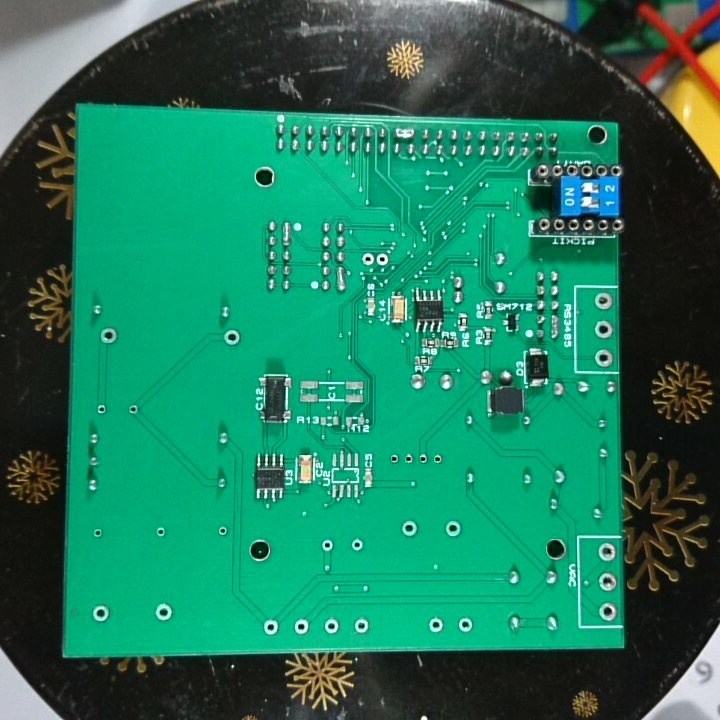F: (591, 289, 615, 313), (596, 539, 619, 563), (90, 602, 114, 625), (592, 316, 614, 341), (597, 569, 619, 594), (97, 324, 120, 347), (153, 601, 175, 623), (399, 517, 420, 540), (442, 517, 465, 538), (221, 326, 242, 349), (593, 346, 614, 368), (456, 614, 476, 637), (597, 599, 617, 621), (426, 616, 446, 637), (352, 616, 371, 637), (261, 616, 279, 636), (323, 616, 340, 637), (348, 534, 364, 555), (292, 616, 310, 634), (319, 536, 334, 557), (430, 447, 445, 468), (375, 250, 392, 268), (359, 250, 375, 268), (214, 524, 231, 540), (91, 524, 106, 542), (126, 400, 140, 419), (416, 449, 430, 467), (95, 401, 109, 419), (155, 524, 168, 542), (388, 450, 401, 467), (403, 450, 414, 468)
P: (332, 263, 348, 294), (547, 312, 562, 343), (392, 123, 418, 140), (278, 219, 293, 248)
